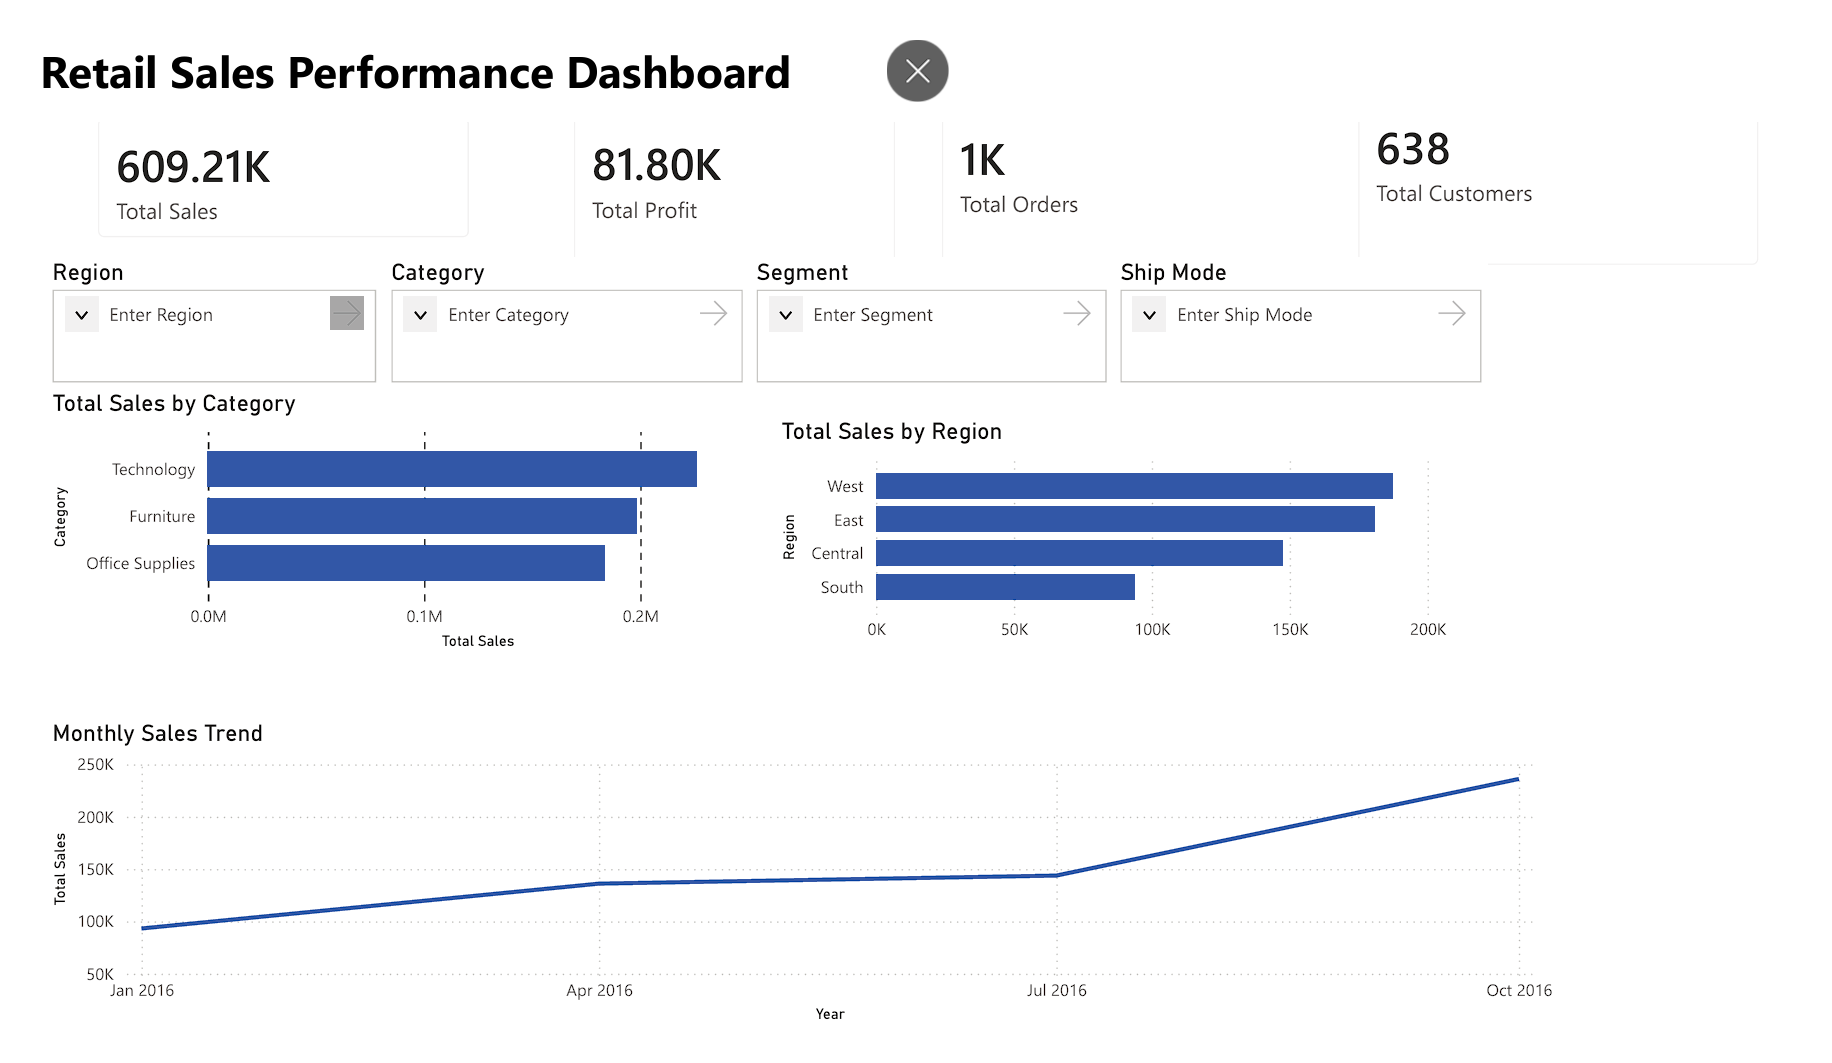

What the dashboard file says about the page in this screenshot:
{"tool":"powerbi","page":{"name":"Dashboard","canvas":[1280,720],"ordinal":0},"visuals":[{"type":"cardVisual","fields":{"Data":["Orders.Total Sales"]},"box":[29.7,45.2,302.2,120.1],"z":0},{"type":"cardVisual","fields":{"Data":["Orders.Total Profit"]},"box":[374.5,23.2,266,161.4],"z":1},{"type":"cardVisual","fields":{"Data":["Orders.Total Orders","Orders.Total Orders"]},"box":[640.5,0,334.4,201.4],"z":2},{"type":"cardVisual","fields":{"Data":["Orders.Total Customers"]},"box":[941.4,0,322.8,184.7],"z":3},{"type":"clusteredBarChart","fields":{"Category":["Orders.Category"],"Y":["Orders.Total Sales"]},"box":[9,258.3,526.8,192.4],"z":4},{"type":"clusteredBarChart","fields":{"Category":["Orders.Region"],"Y":["Orders.Total Sales"]},"box":[535.9,277.6,490.7,173],"z":5},{"type":"lineChart","title":"Monthly Sales Trend","fields":{"Category":["Orders.Order Date.Variation.Date Hierarchy.Year","Orders.Order Date.Variation.Date Hierarchy.Quarter","Orders.Order Date.Variation.Date Hierarchy.Month","Orders.Order Date.Variation.Date Hierarchy.Day"],"Y":["Orders.Total Sales"]},"box":[9,495.9,1093.7,224.7],"z":6},{"type":"textSlicer","fields":{"Values":["Orders.Region"]},"box":[9,162.7,244.1,95.6],"z":7},{"type":"textSlicer","fields":{"Values":["Orders.Category"]},"box":[254.4,162.7,263.4,95.6],"z":8},{"type":"textSlicer","fields":{"Values":["Orders.Segment"]},"box":[517.8,162.7,263.4,95.6],"z":9},{"type":"textSlicer","fields":{"Values":["Orders.Ship Mode"]},"box":[781.2,162.7,271.2,95.6],"z":10},{"type":"textbox","box":[0,0,1279.7,64.6],"z":11}]}

Visuals, with their boxes on the page's 1280x720 design canvas (x1, y1, x2, y2). These are canvas units, not pixel positions in the 1832x1063 screenshot, which may show the page scaled, cropped or inside an application window:
cardVisual - Orders.Total Sales: (left=30, top=45, right=332, bottom=165)
cardVisual - Orders.Total Profit: (left=374, top=23, right=640, bottom=185)
cardVisual - Orders.Total Orders x Orders.Total Orders: (left=640, top=0, right=975, bottom=201)
cardVisual - Orders.Total Customers: (left=941, top=0, right=1264, bottom=185)
clusteredBarChart - Orders.Category x Orders.Total Sales: (left=9, top=258, right=536, bottom=451)
clusteredBarChart - Orders.Region x Orders.Total Sales: (left=536, top=278, right=1027, bottom=451)
"Monthly Sales Trend" lineChart: (left=9, top=496, right=1103, bottom=721)
textSlicer - Orders.Region: (left=9, top=163, right=253, bottom=258)
textSlicer - Orders.Category: (left=254, top=163, right=518, bottom=258)
textSlicer - Orders.Segment: (left=518, top=163, right=781, bottom=258)
textSlicer - Orders.Ship Mode: (left=781, top=163, right=1052, bottom=258)
textbox: (left=0, top=0, right=1280, bottom=65)
